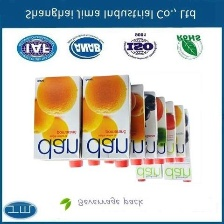carton: (28, 71, 83, 170), (80, 72, 133, 170), (162, 91, 201, 187), (124, 81, 145, 166), (139, 89, 158, 167), (170, 95, 187, 165), (153, 94, 168, 167), (162, 101, 179, 165), (132, 162, 162, 186)
